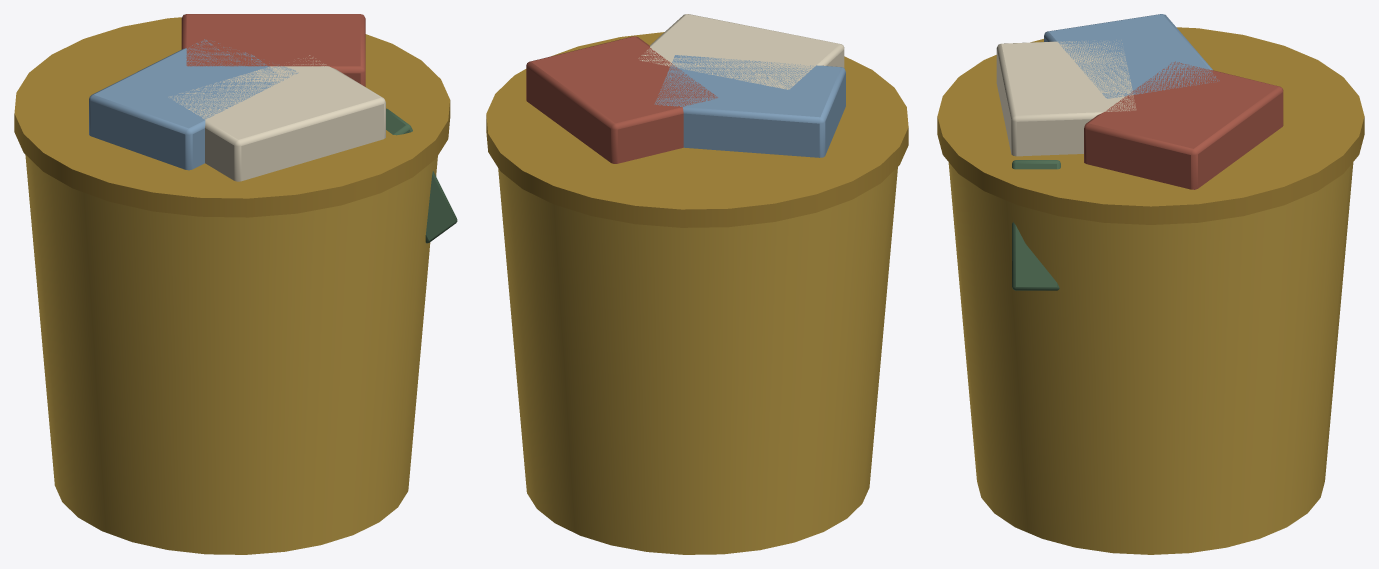
Rendered from RoNhua_QuanAoBan.glb.
3 renders of one model, left to right at view 1: azimuth 30°, elevation 25°; view 2: azimuth 150°, elevation 25°; view 3: azimuth 270°, elevation 25°, orthographic. The views are drawn at different scales.
Visible parts, largest first — view 1: RoNhua_QuanAoBan, RoNhua_QuanAoBan_1, RoNhua_QuanAoBan_4, RoNhua_QuanAoBan_2, RoNhua_QuanAoBan_3, RoNhua_QuanAoBan_5; view 2: RoNhua_QuanAoBan, RoNhua_QuanAoBan_1, RoNhua_QuanAoBan_3, RoNhua_QuanAoBan_2, RoNhua_QuanAoBan_4; view 3: RoNhua_QuanAoBan, RoNhua_QuanAoBan_1, RoNhua_QuanAoBan_3, RoNhua_QuanAoBan_4, RoNhua_QuanAoBan_2, RoNhua_QuanAoBan_5.
Part boxes in pixels (box(x1,y1,x2,y2)): RoNhua_QuanAoBan: box(25, 155, 437, 554); RoNhua_QuanAoBan_1: box(14, 17, 450, 217); RoNhua_QuanAoBan_4: box(168, 55, 385, 181); RoNhua_QuanAoBan_2: box(89, 39, 298, 170); RoNhua_QuanAoBan_3: box(181, 14, 365, 86); RoNhua_QuanAoBan_5: box(386, 108, 457, 243); RoNhua_QuanAoBan: box(498, 167, 897, 554); RoNhua_QuanAoBan_1: box(486, 32, 908, 227); RoNhua_QuanAoBan_3: box(526, 36, 717, 163); RoNhua_QuanAoBan_2: box(654, 55, 845, 157); RoNhua_QuanAoBan_4: box(638, 14, 844, 89); RoNhua_QuanAoBan: box(948, 162, 1353, 554); RoNhua_QuanAoBan_1: box(937, 27, 1364, 224); RoNhua_QuanAoBan_3: box(1084, 61, 1283, 189); RoNhua_QuanAoBan_4: box(996, 40, 1136, 156); RoNhua_QuanAoBan_2: box(1044, 14, 1219, 98); RoNhua_QuanAoBan_5: box(1012, 160, 1060, 290).
Size of the model in its own units: 0.5222 by 0.545 by 0.5221.
